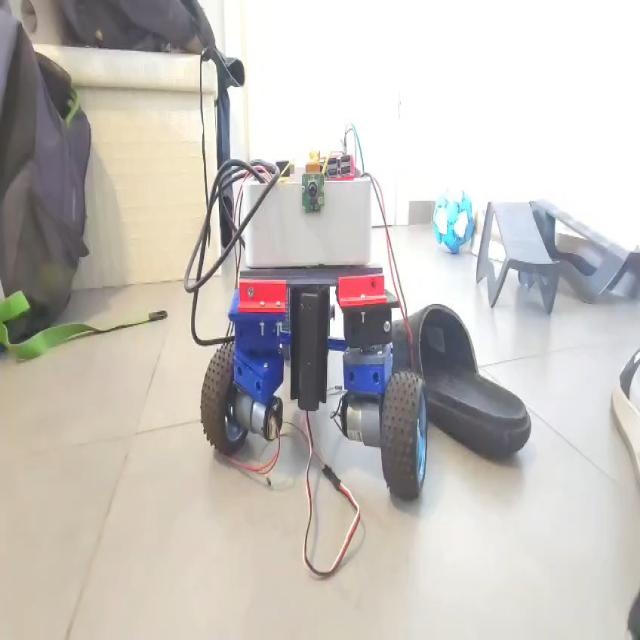Robot: (199, 118, 432, 507)
